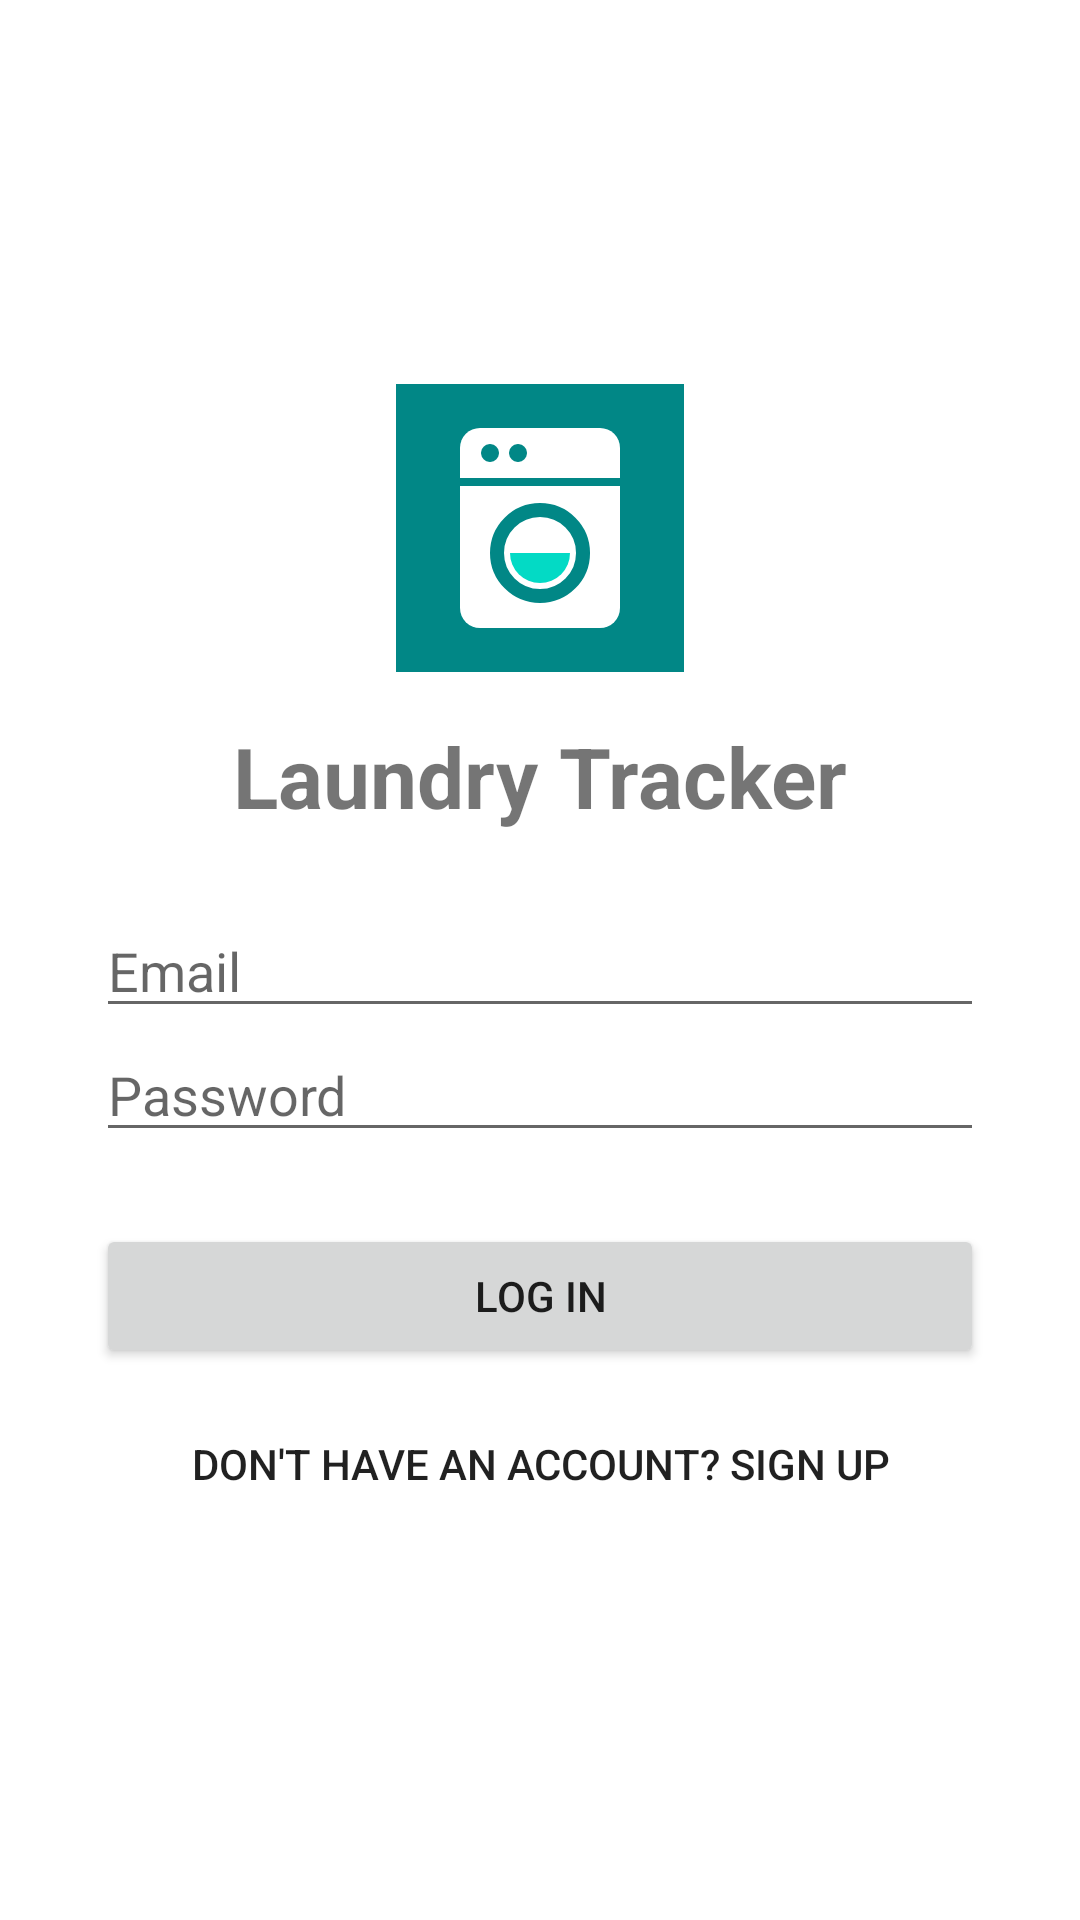

Where to tap for icons on this 1080w x 1920h app screen, as (x,y):
washing machine: (540,528)
